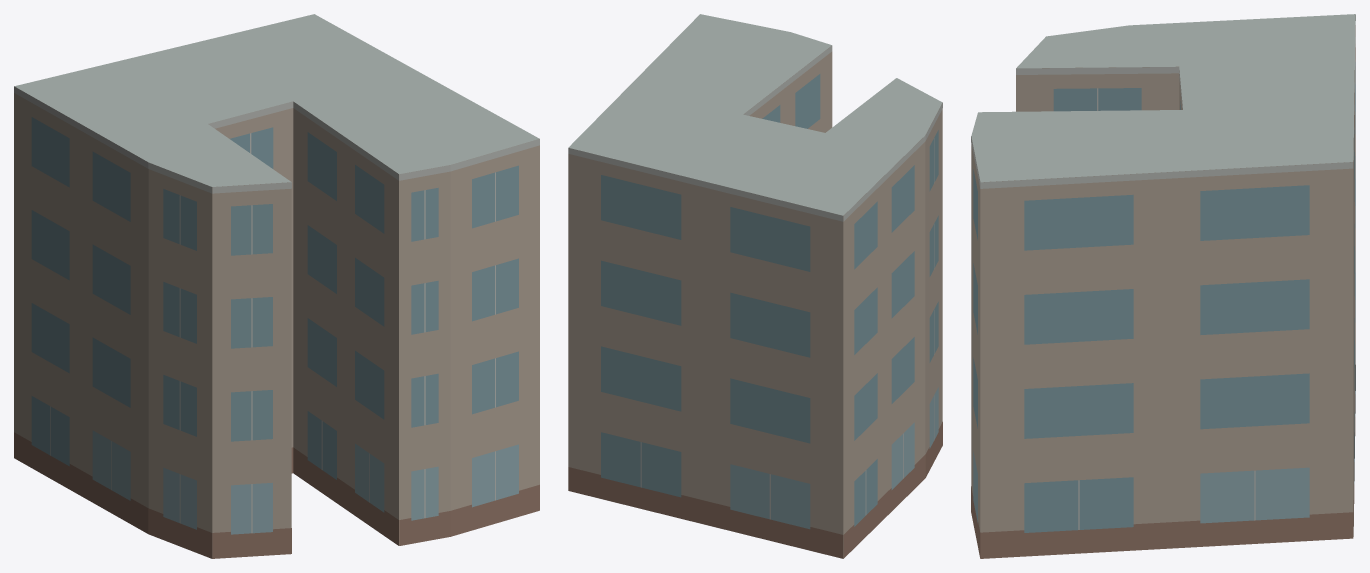
Rendered from survey-upis-32475440.glb.
The picture shows the model from 3 angles, left to right: view 1: azimuth 30°, elevation 25°; view 2: azimuth 150°, elevation 25°; view 3: azimuth 270°, elevation 25°; orthographic projection. The views are drawn at different scales.
Parts seen in each view (by area): view 1: survey-upis-32475440.tmp; view 2: survey-upis-32475440.tmp; view 3: survey-upis-32475440.tmp.
Boxes of the visible parts, x1,y1,x2,y2 form: survey-upis-32475440.tmp: (14,14,539,558); survey-upis-32475440.tmp: (568,14,942,558); survey-upis-32475440.tmp: (971,14,1355,558).
Size of the model in its own units: 13.24 by 13.8 by 12.78.
